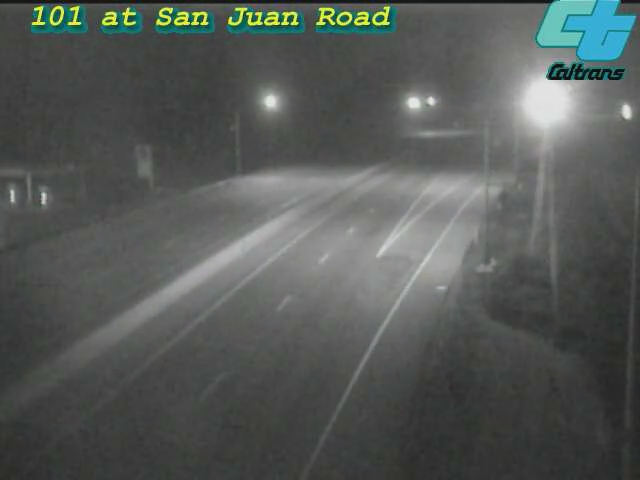vehicle: (520, 78, 570, 128), (603, 87, 640, 137)
